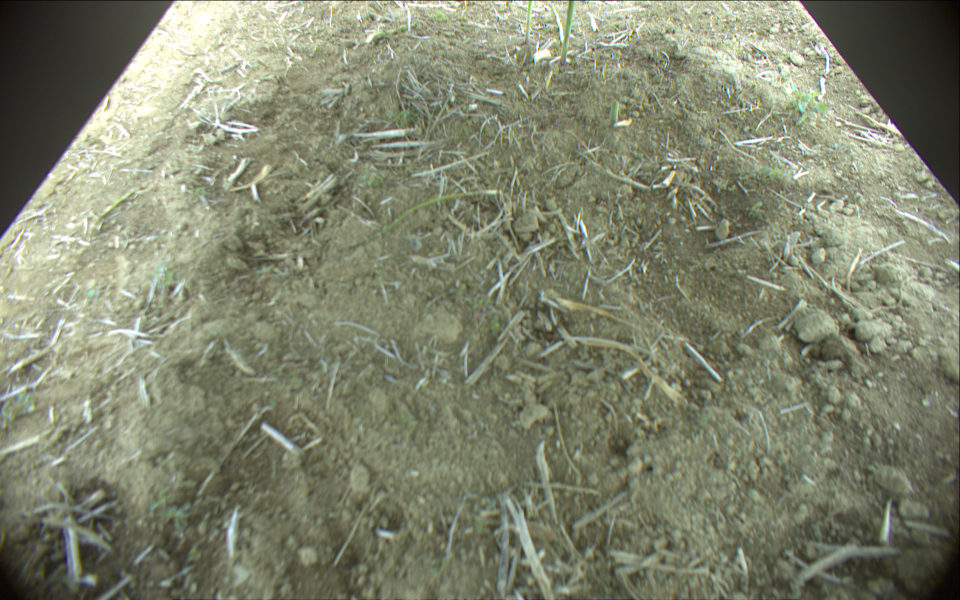aspa: (334, 186, 499, 256), (362, 19, 423, 47), (559, 1, 574, 66), (524, 1, 533, 45)
